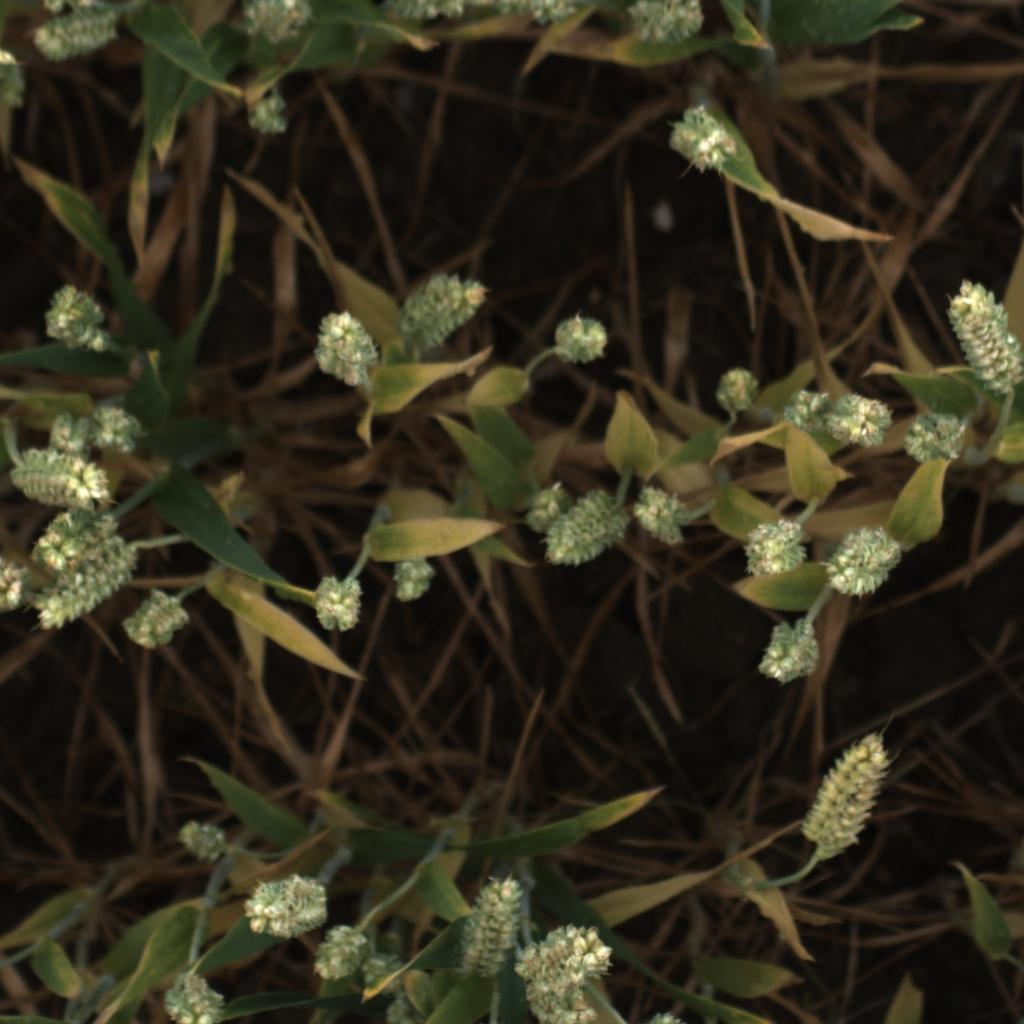0-0: (794, 733, 897, 859), (937, 276, 1024, 396), (32, 552, 139, 639), (12, 443, 127, 514), (398, 267, 490, 355), (455, 875, 529, 977), (386, 0, 592, 35), (537, 487, 625, 568), (31, 280, 117, 358), (512, 921, 615, 986), (308, 302, 380, 392), (821, 526, 905, 602), (665, 105, 744, 181), (33, 0, 122, 67), (242, 872, 330, 939), (28, 508, 121, 569), (364, 943, 436, 1020), (751, 614, 824, 685), (738, 515, 813, 583), (624, 484, 696, 552), (120, 587, 192, 653), (542, 309, 616, 372), (825, 392, 897, 452), (901, 408, 971, 469), (311, 567, 369, 638), (623, 0, 708, 46), (307, 929, 370, 990), (88, 404, 151, 464), (156, 972, 227, 1024), (241, 0, 321, 46), (168, 812, 233, 868), (707, 358, 763, 421), (239, 91, 300, 147), (777, 385, 838, 439), (383, 553, 439, 611), (40, 407, 94, 465), (525, 984, 600, 1024), (0, 557, 33, 620)
